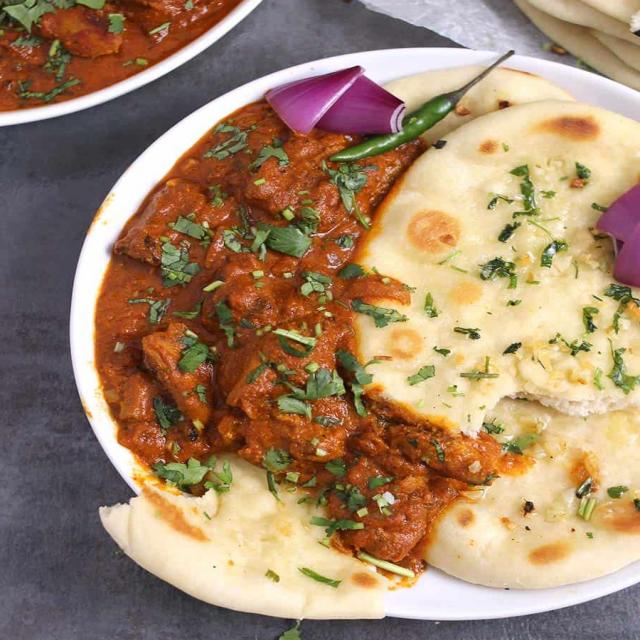Butter Chicken: (154, 148, 358, 494)
